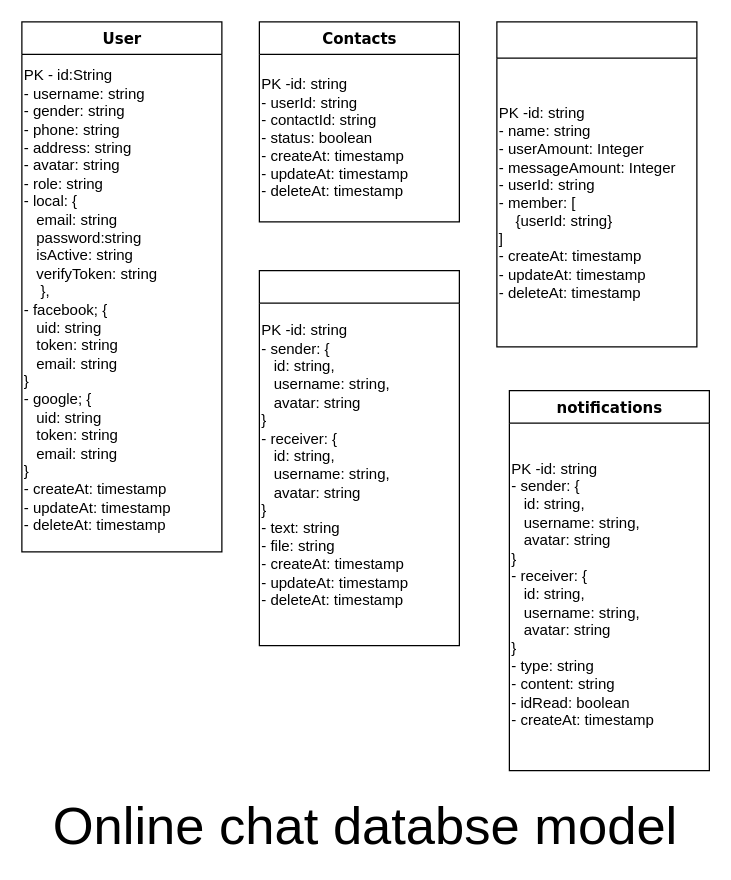
Image size: 731x880. Some labels were removed from this diagram. Each missing label, with the box of its shape:
chat-group: (496, 21, 697, 347)
messages: (258, 269, 459, 646)
